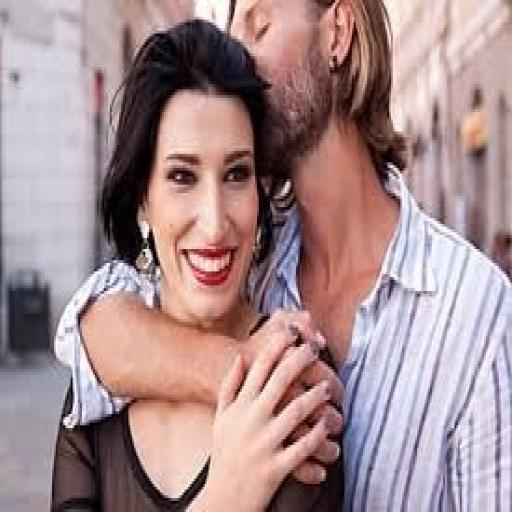hugging: (49, 0, 510, 509)
